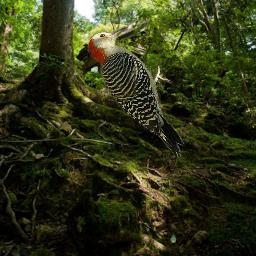Woodpecker: (85, 26, 187, 158)
